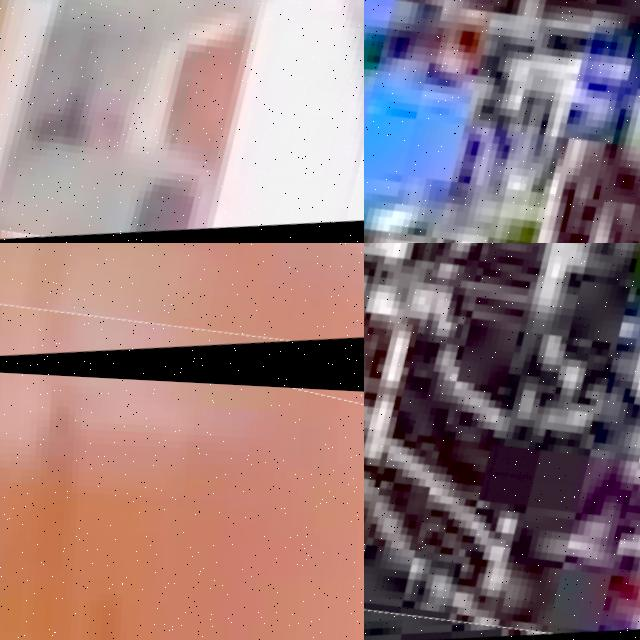drone: (364, 243, 640, 640), (0, 0, 364, 243), (364, 0, 640, 243), (0, 243, 364, 398)
